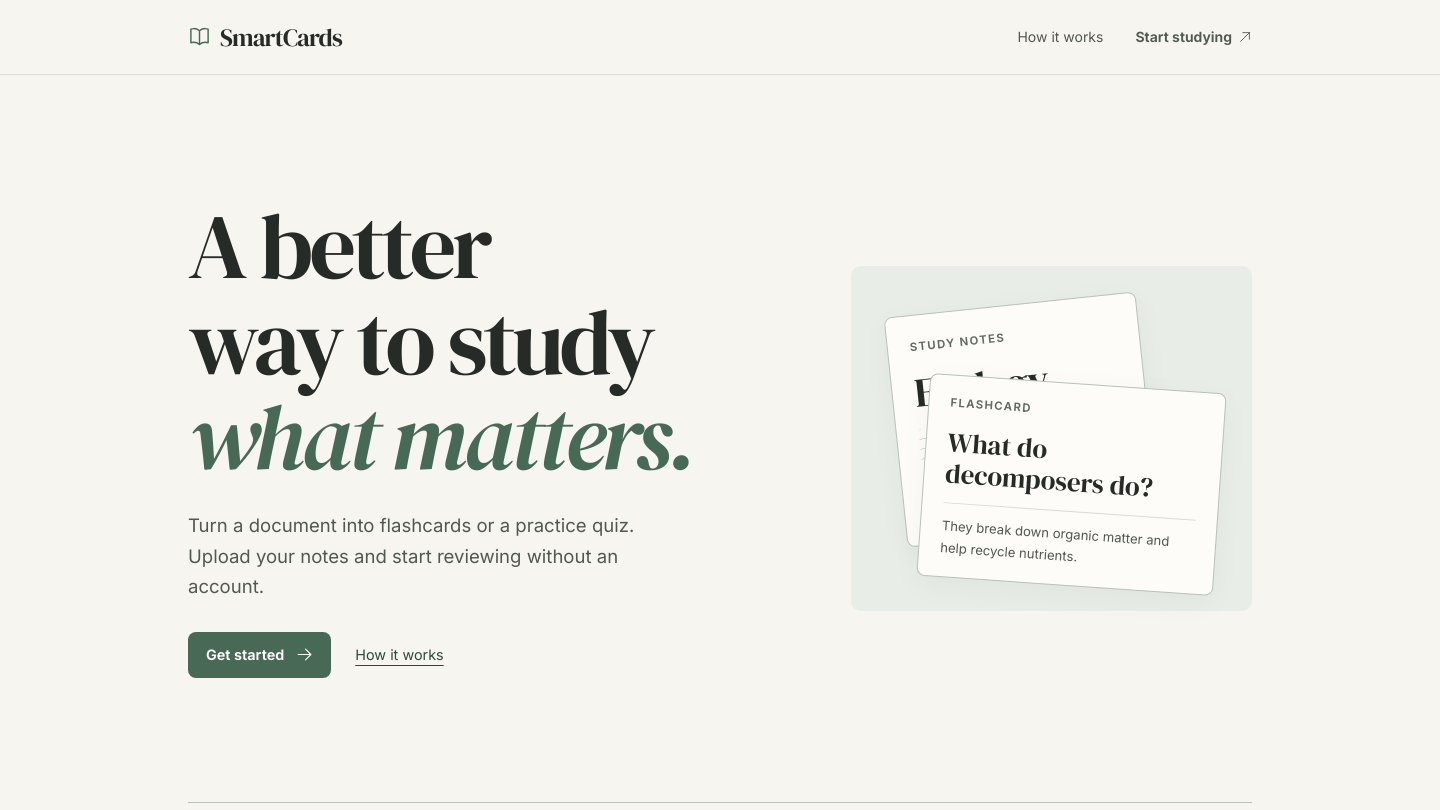
Get started opens the public dashboard
Click the link "Get started" at [260, 655], box 188,632 -> 331,678
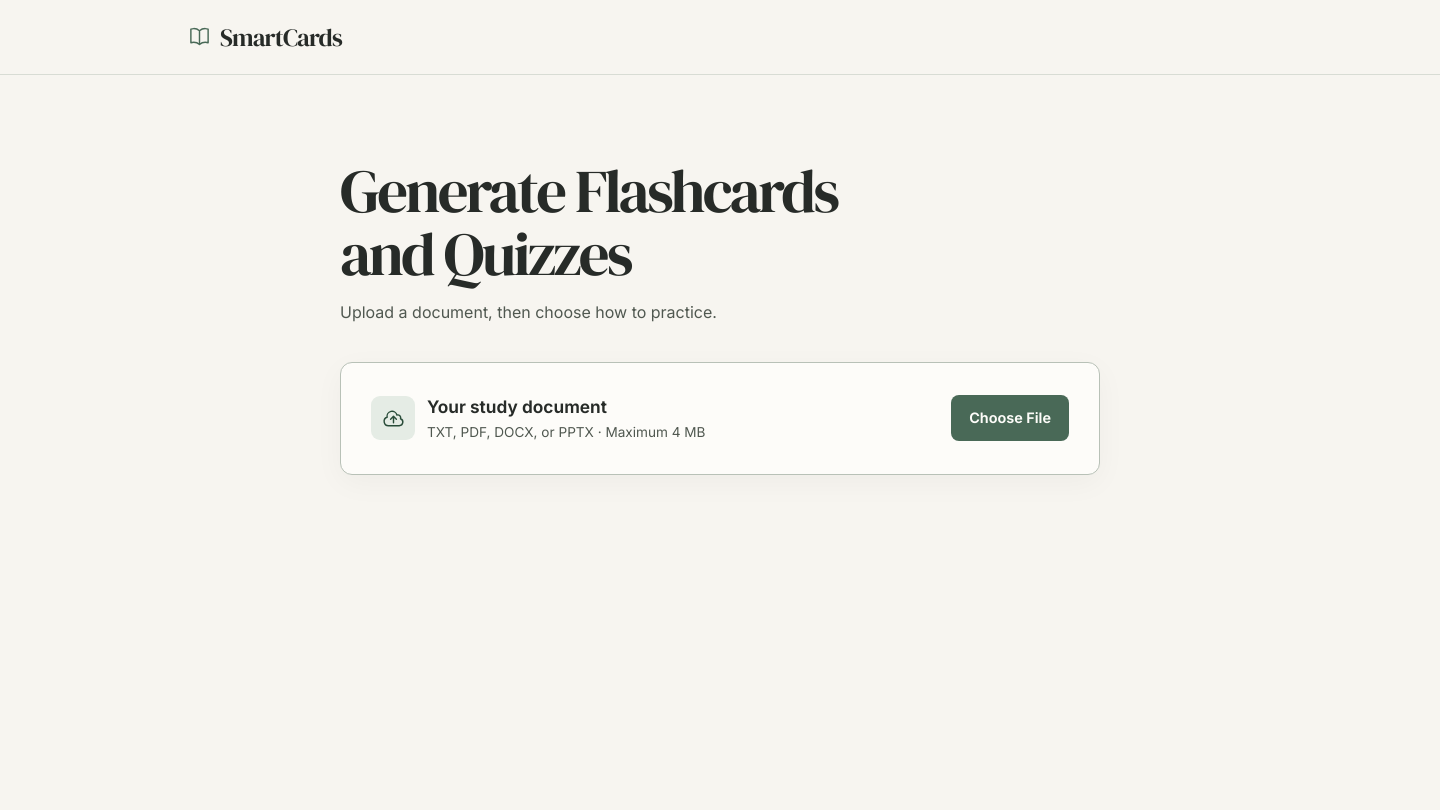
Expected: the heading "Generate Flashcards and Quizzes" is shown, 340,149 -> 837,295
